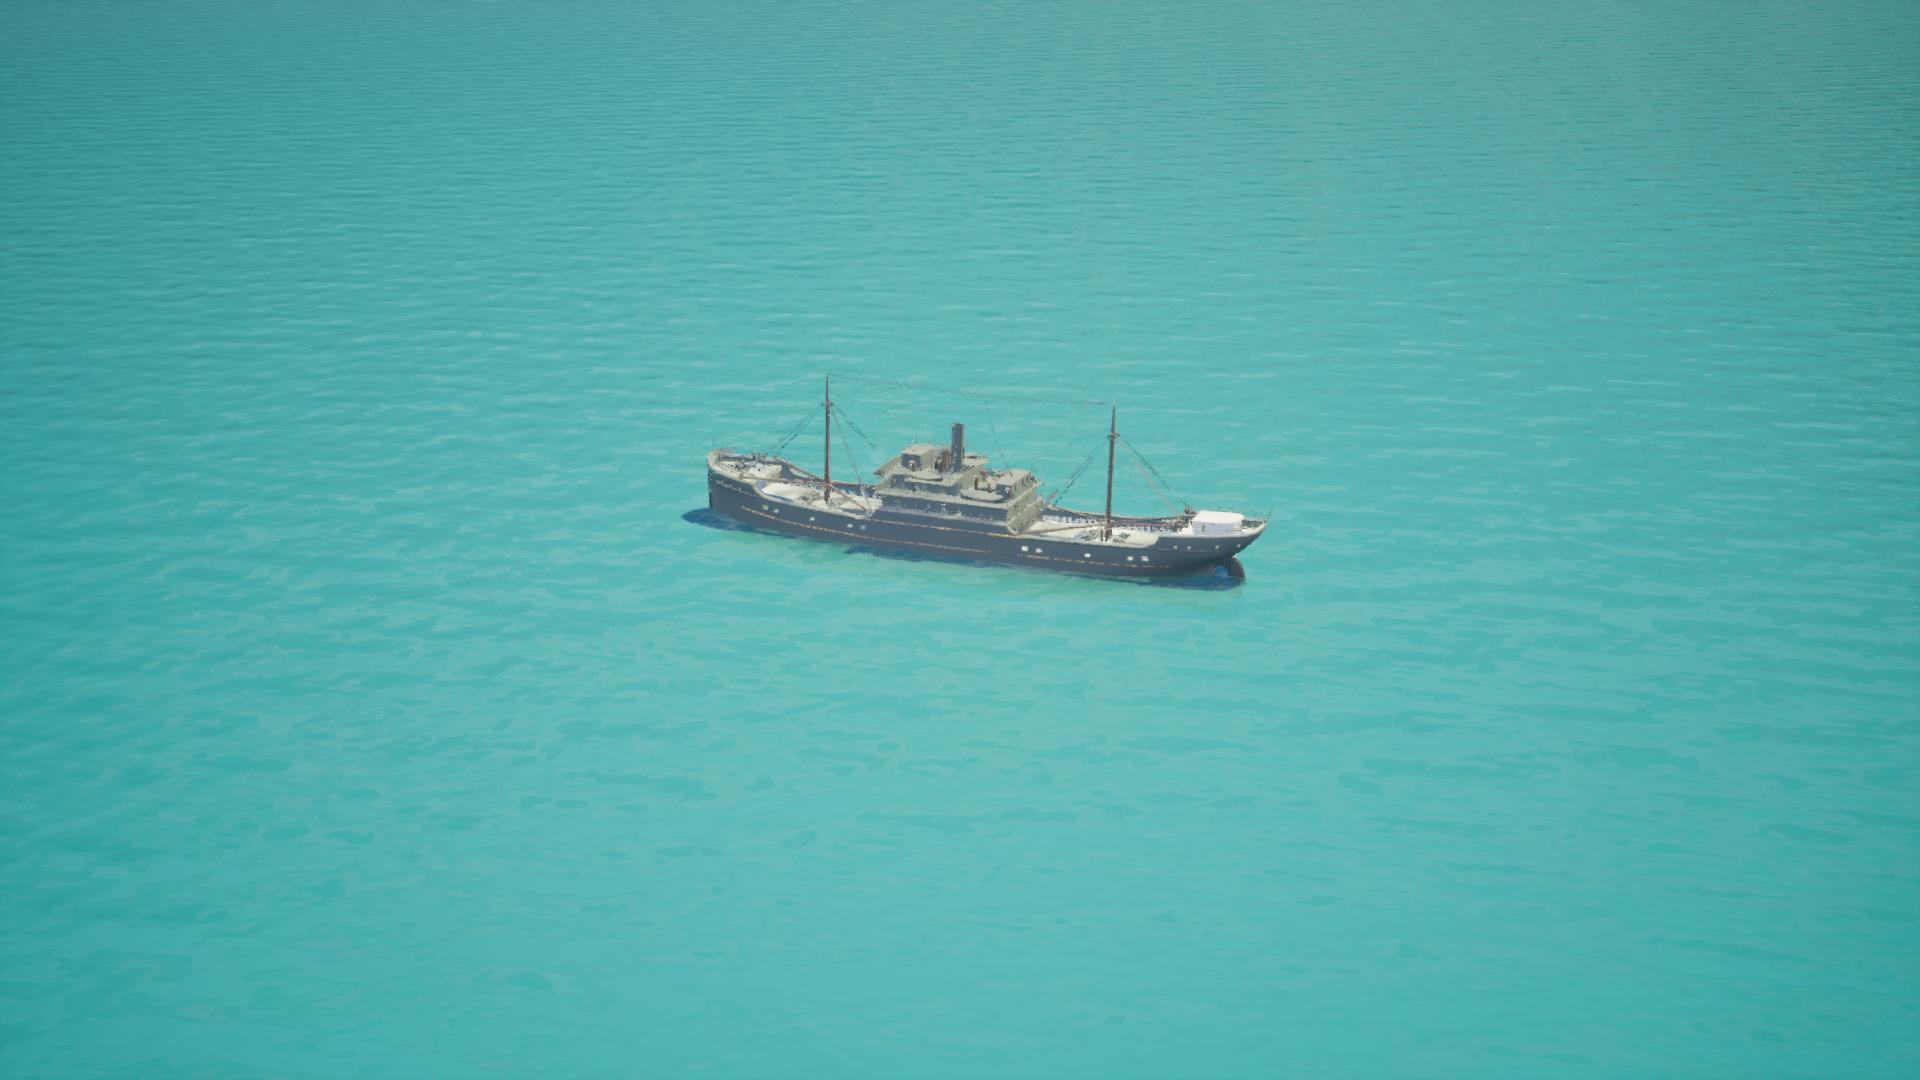Fishing Boat: (700, 392, 1259, 583)
